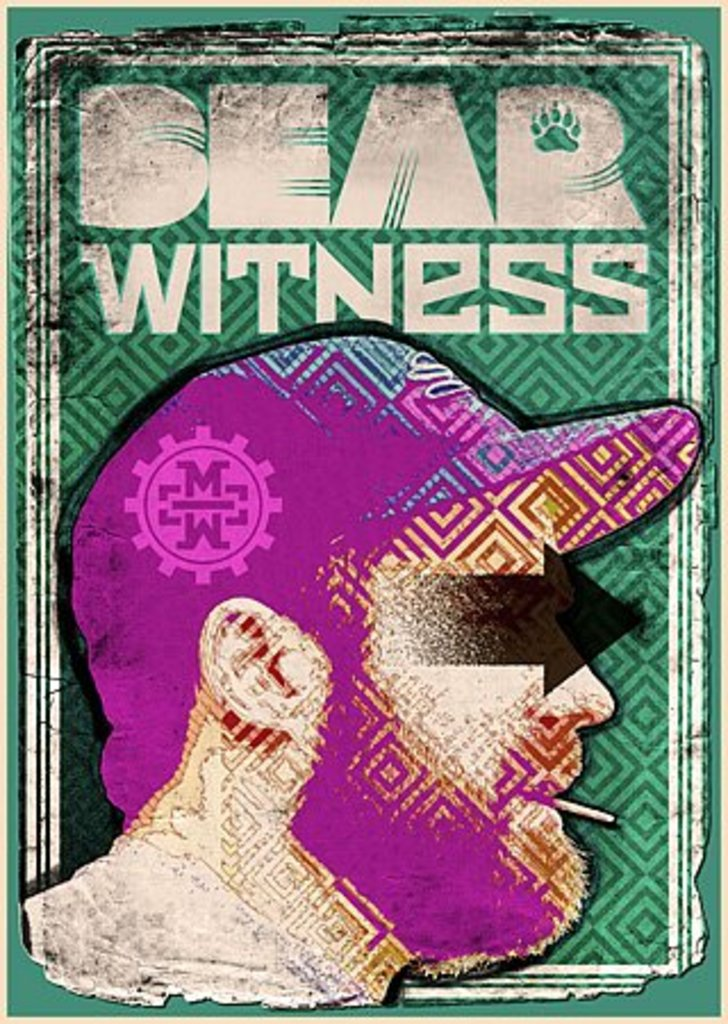Person: (18, 318, 702, 1008)
